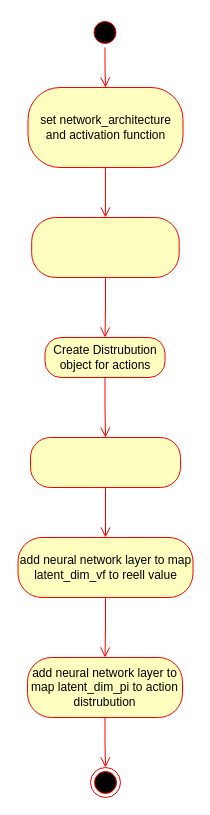
Some shapes in this 210 by 815 pixel diagram are drawn without their labels. The centre of each missing label's shape, as x and y in pixels:
create feature extractor for policy and value function: (105,247)
Create fully connected neural network for value function and policy: (105,462)
